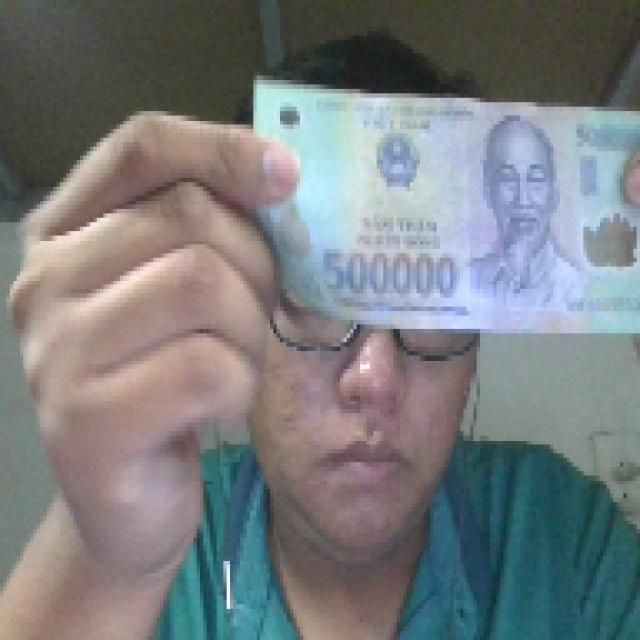500 000 VND: (246, 66, 636, 338)
